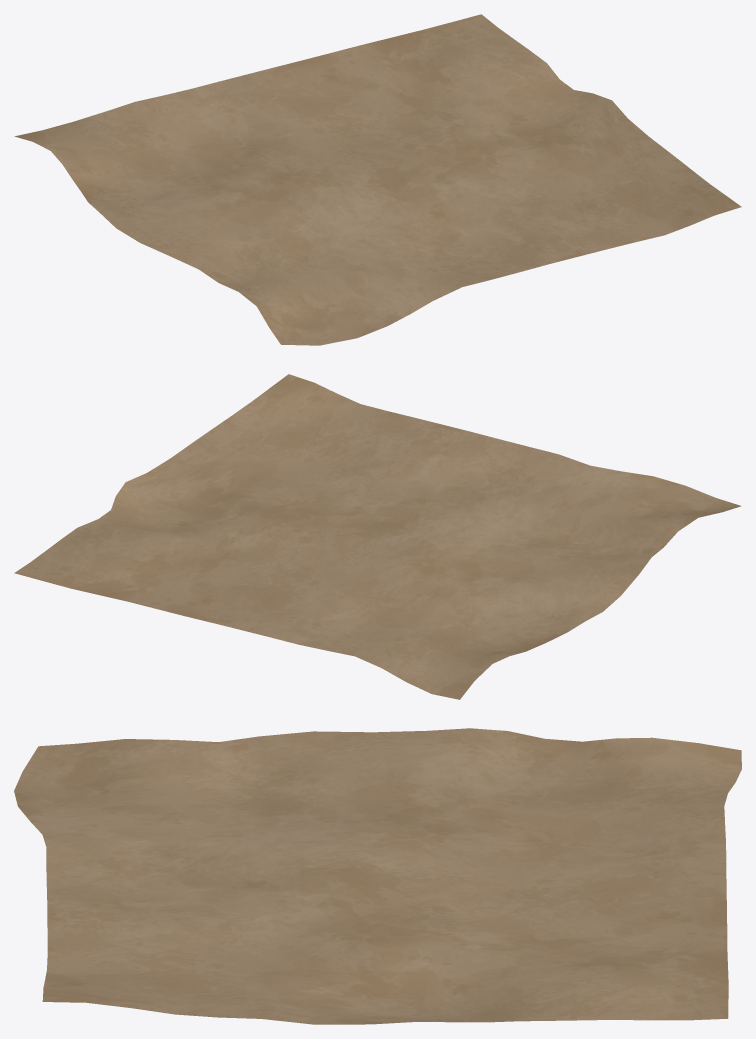
File: Sea floor.fbx
3 views of the same model, one above another, from view 1: azimuth 30°, elevation 25°; view 2: azimuth 150°, elevation 25°; view 3: azimuth 270°, elevation 25° (orthographic). The views are drawn at different scales.
Visible parts, largest first — view 1: Botten.001; view 2: Botten.001; view 3: Botten.001.
Boxes of the visible parts, x1=… form: Botten.001: x1=14, y1=14, x2=741, y2=345; Botten.001: x1=14, y1=374, x2=741, y2=699; Botten.001: x1=14, y1=728, x2=741, y2=1024.
Size of the model in its own units: 84679 by 4604 by 85701.
